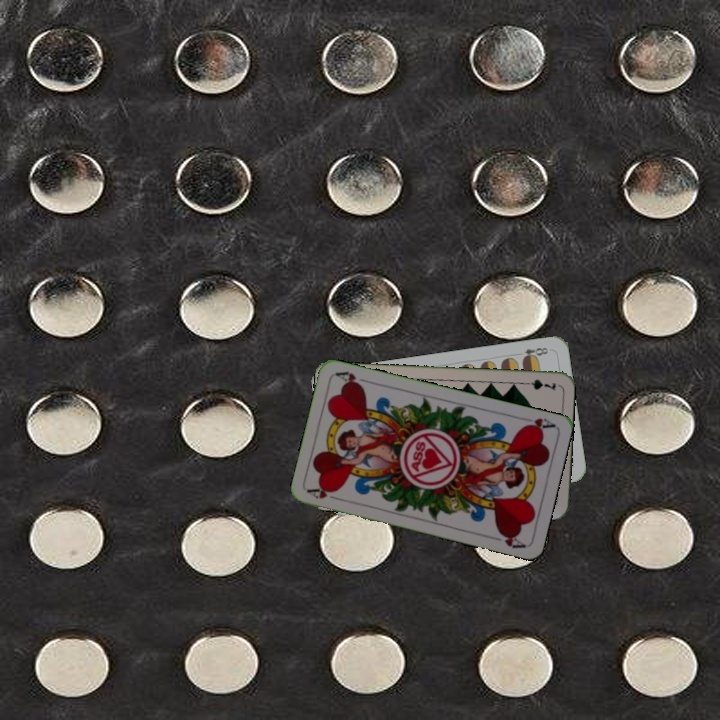E8: (512, 343, 551, 363)
G7: (518, 375, 559, 393)
HA: (304, 484, 345, 504), (519, 414, 557, 434)
